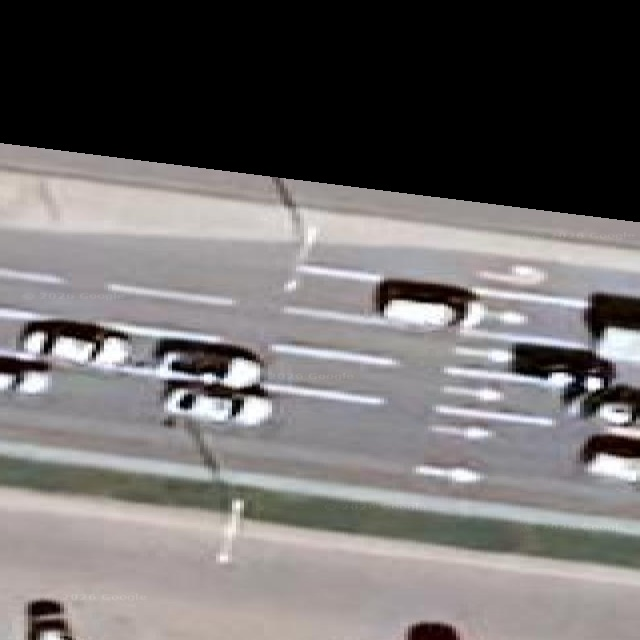car: (510, 343, 615, 402), (374, 279, 485, 328), (154, 339, 263, 388), (18, 319, 131, 365), (163, 381, 272, 426), (584, 293, 639, 361), (579, 434, 639, 482), (581, 384, 639, 426), (0, 355, 50, 394), (25, 599, 73, 639), (405, 621, 461, 639)
